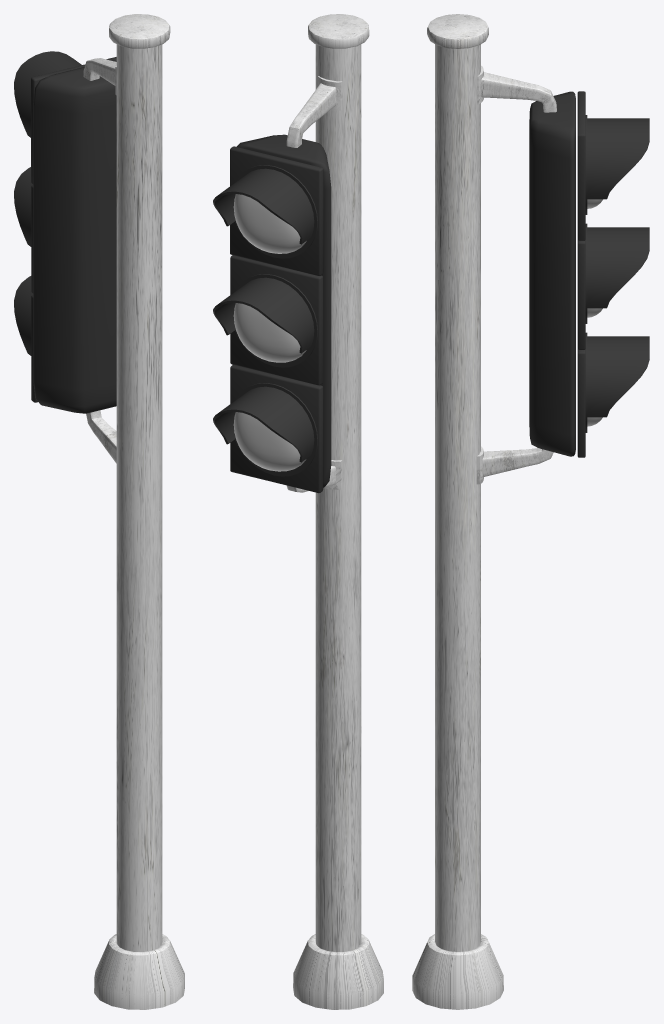
The model's file is Traffic light.fbx.
The picture shows the model from 3 angles, left to right: view 1: azimuth 30°, elevation 25°; view 2: azimuth 150°, elevation 25°; view 3: azimuth 270°, elevation 25°; orthographic projection.
Visible parts, largest first — view 1: Cylinder, trafik ışığı, şapka, Plane.001, kare; view 2: Cylinder, şapka, kare, trafik ışığı, Light 1, Light2, light 3, Plane.001; view 3: Cylinder, trafik ışığı, şapka, Plane.001, kare.
Part boxes in pixels (<box>): Cylinder: <box>94,14,184,1009</box>; trafik ışığı: <box>33,60,116,413</box>; şapka: <box>14,51,81,355</box>; Plane.001: <box>83,58,116,463</box>; kare: <box>31,57,116,402</box>; Cylinder: <box>293,14,383,1009</box>; şapka: <box>213,165,317,476</box>; kare: <box>230,146,323,493</box>; trafik ışığı: <box>232,134,331,487</box>; Light 1: <box>233,194,306,253</box>; Light2: <box>233,303,306,362</box>; light 3: <box>233,412,306,471</box>; Plane.001: <box>286,76,342,492</box>; Cylinder: <box>412,14,503,1009</box>; trafik ışığı: <box>529,91,575,456</box>; şapka: <box>585,115,649,432</box>; Plane.001: <box>476,65,556,484</box>; kare: <box>577,91,585,457</box>.
Size of the model in its own units: 61.71 by 583 by 130.
